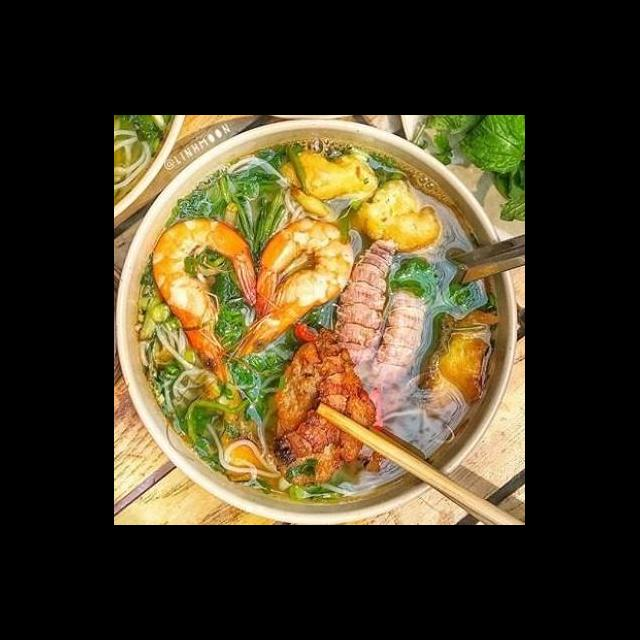bun: (132, 311, 212, 438), (214, 151, 320, 240), (200, 415, 286, 498)
bun hai san: (132, 141, 524, 525)
ca: (410, 304, 502, 421)
dau hu: (274, 145, 384, 224), (354, 173, 448, 265)
tom: (146, 213, 264, 391), (225, 214, 358, 362)
tom tit: (328, 234, 402, 382), (362, 277, 432, 394)
